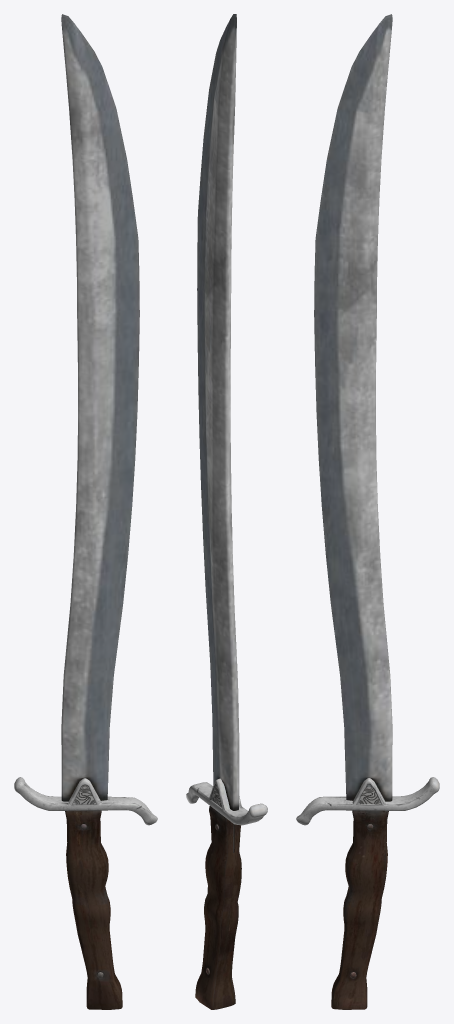
3 renders of one model, left to right at view 1: azimuth 90°, elevation 25°; view 2: azimuth 210°, elevation 25°; view 3: azimuth 270°, elevation 25°, orthographic.
Visible parts, largest first — view 1: wooden_handle_saber; view 2: wooden_handle_saber; view 3: wooden_handle_saber.
Boxes of the visible parts, x1,y1,x2,y2 form: wooden_handle_saber: (14, 14, 157, 1009); wooden_handle_saber: (186, 14, 267, 1009); wooden_handle_saber: (296, 14, 439, 1009).
Size of the model in its own units: 0.0257 by 0.9355 by 0.1228.
1 material, 1 textured.
